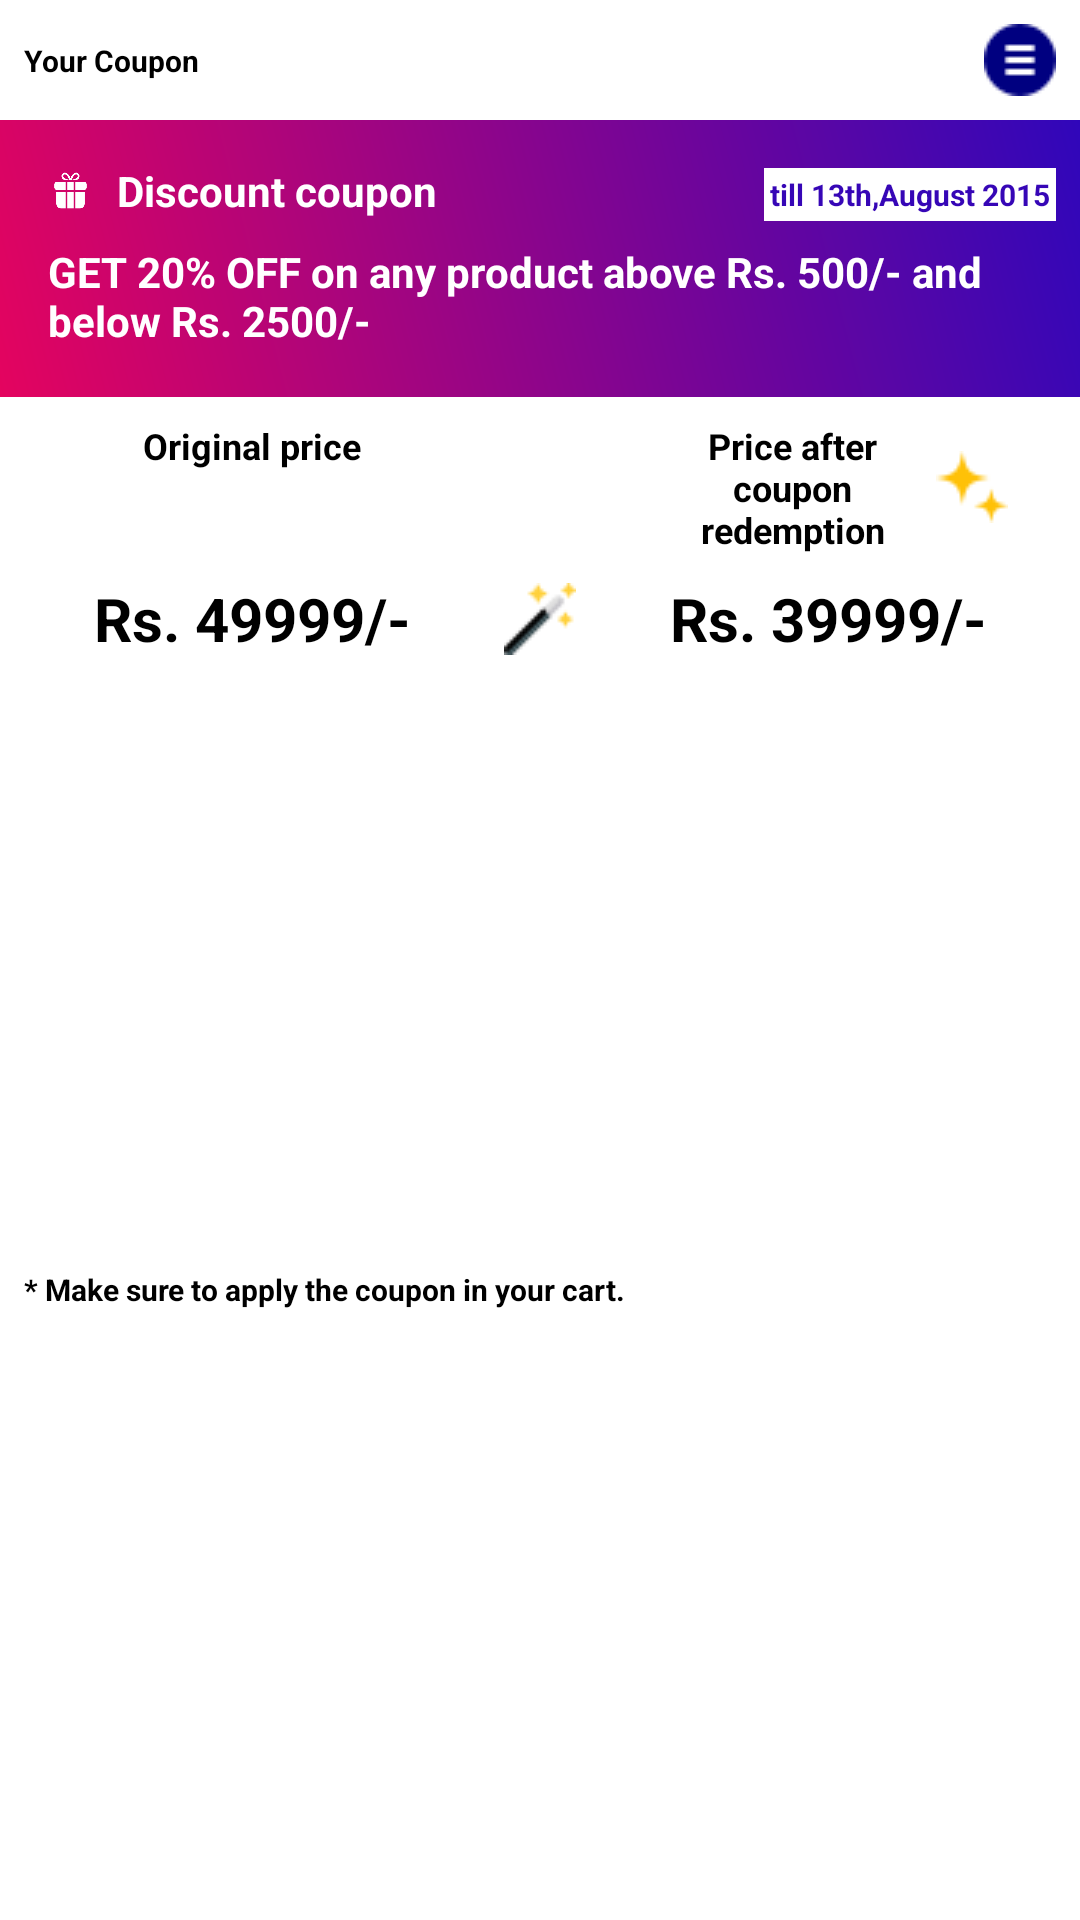

Named icons in this screenshot (1080*1920) and their centers, (x,y):
free gift: (70,190)
magic wand: (540,619)
